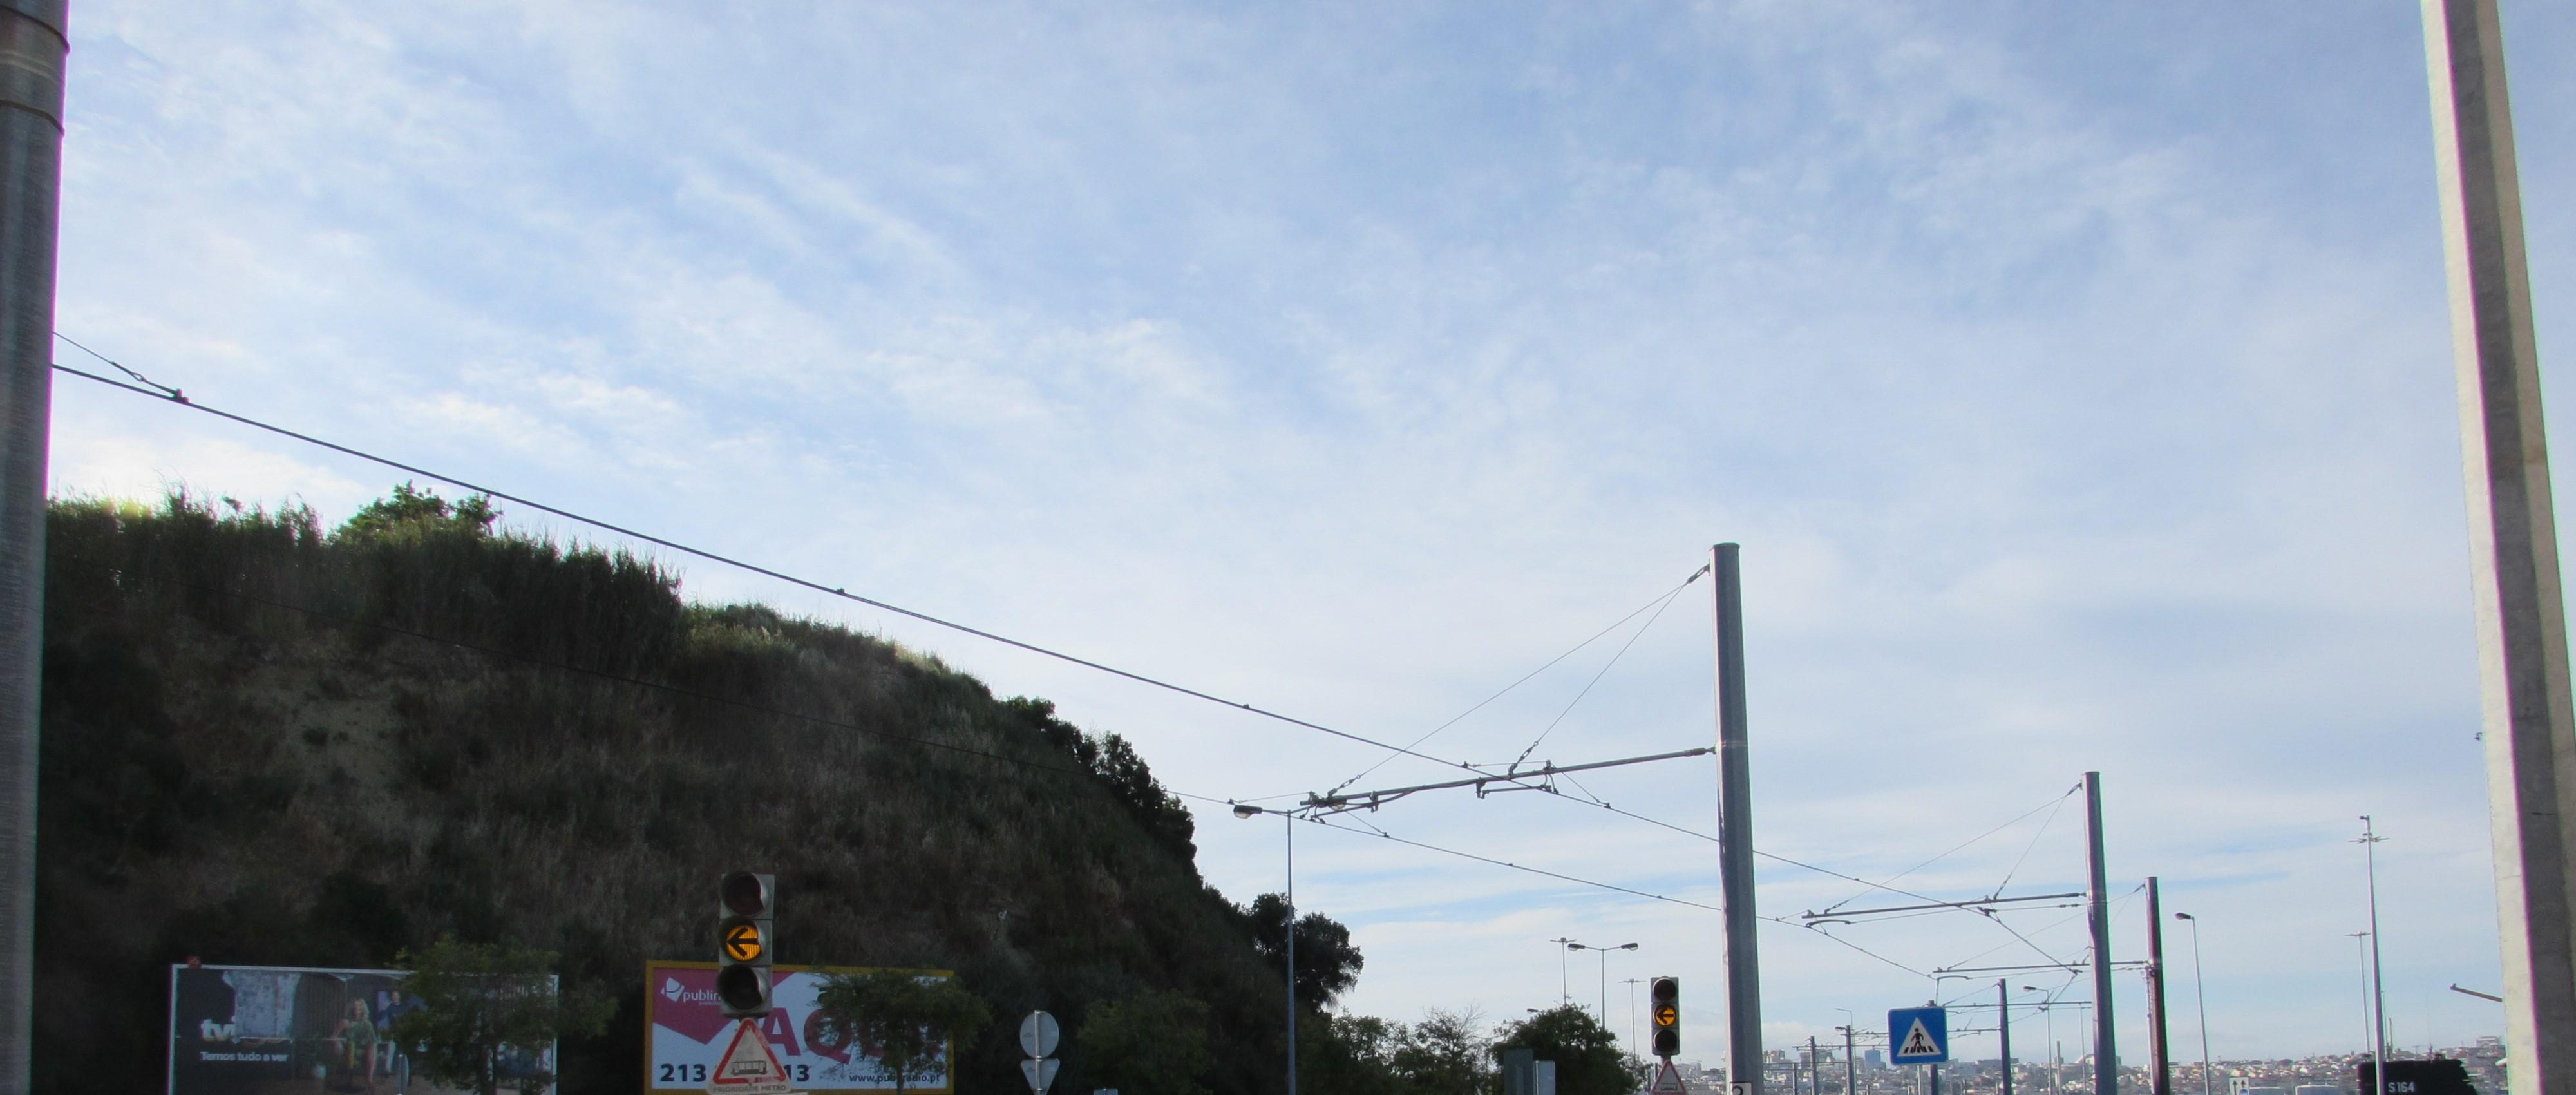yellow_light: (716, 871, 775, 1016), (1651, 977, 1681, 1056)
